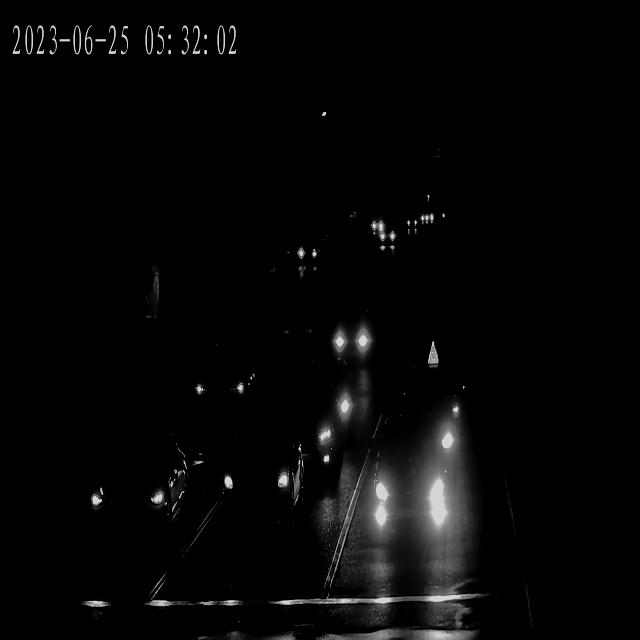Car: (82, 434, 182, 554), (222, 419, 296, 553), (366, 455, 452, 562), (392, 394, 455, 490), (309, 348, 369, 446), (284, 390, 340, 488), (192, 339, 258, 412), (409, 362, 465, 439), (322, 296, 376, 352), (290, 230, 324, 270), (379, 220, 399, 254), (367, 206, 384, 236), (406, 212, 421, 236), (422, 213, 435, 233)
